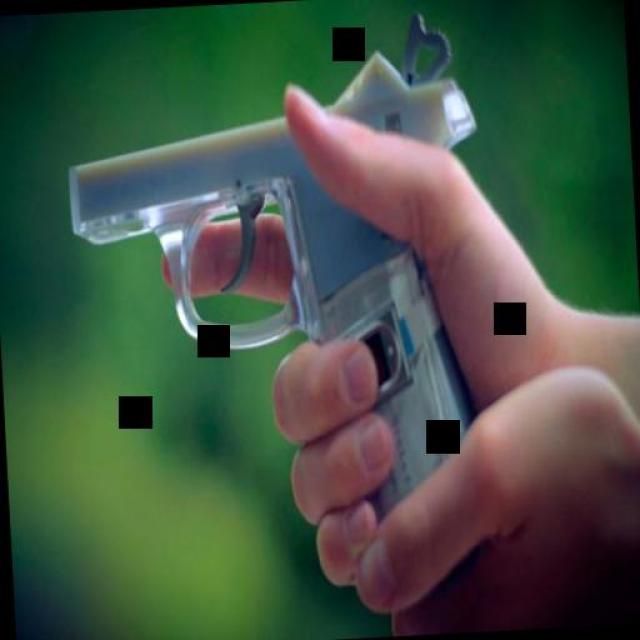gun: (54, 5, 511, 594)
